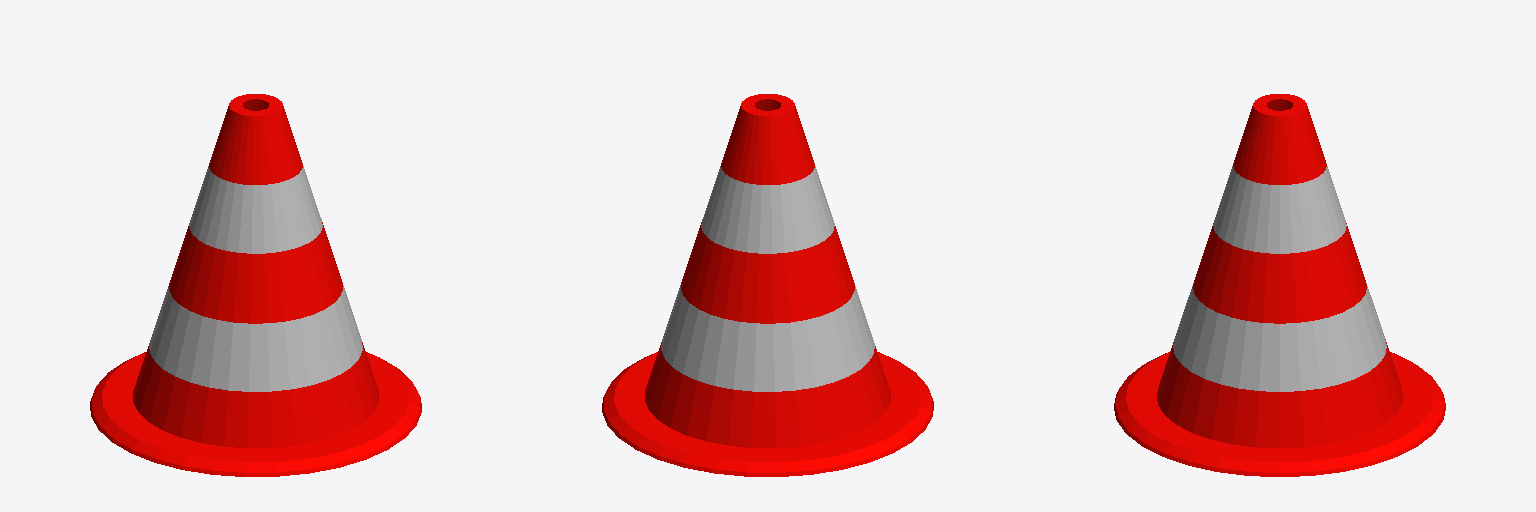
Rendered from trafficcone.obj.
3 views of the same model, side by side, from view 1: azimuth 30°, elevation 25°; view 2: azimuth 150°, elevation 25°; view 3: azimuth 270°, elevation 25° (orthographic).
Visible parts, largest first — view 1: trafficcone_hull1_Cylinder, trafficcone_hull2_Cylinder.002, trafficcone_bottom_Cylinder.003, trafficcone_top_Cylinder.004; view 2: trafficcone_hull1_Cylinder, trafficcone_hull2_Cylinder.002, trafficcone_bottom_Cylinder.003, trafficcone_top_Cylinder.004; view 3: trafficcone_hull1_Cylinder, trafficcone_hull2_Cylinder.002, trafficcone_bottom_Cylinder.003, trafficcone_top_Cylinder.004.
Boxes of the visible parts, x1,y1,x2,y2 form: trafficcone_hull1_Cylinder: [133, 99, 378, 447]; trafficcone_hull2_Cylinder.002: [149, 166, 362, 391]; trafficcone_bottom_Cylinder.003: [90, 352, 421, 476]; trafficcone_top_Cylinder.004: [229, 94, 282, 115]; trafficcone_hull1_Cylinder: [645, 99, 890, 447]; trafficcone_hull2_Cylinder.002: [661, 166, 874, 391]; trafficcone_bottom_Cylinder.003: [602, 352, 933, 476]; trafficcone_top_Cylinder.004: [741, 94, 794, 115]; trafficcone_hull1_Cylinder: [1157, 99, 1402, 448]; trafficcone_hull2_Cylinder.002: [1173, 163, 1386, 391]; trafficcone_bottom_Cylinder.003: [1114, 352, 1445, 476]; trafficcone_top_Cylinder.004: [1253, 94, 1306, 115].
Bounding box in the file's own units: 2 × 2 × 2.